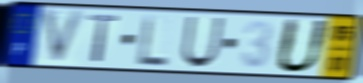3: (241, 18, 276, 71)
L: (137, 12, 169, 67)
T: (86, 13, 121, 65)
U: (273, 16, 332, 75), (179, 15, 226, 70)
V: (39, 6, 89, 67)
